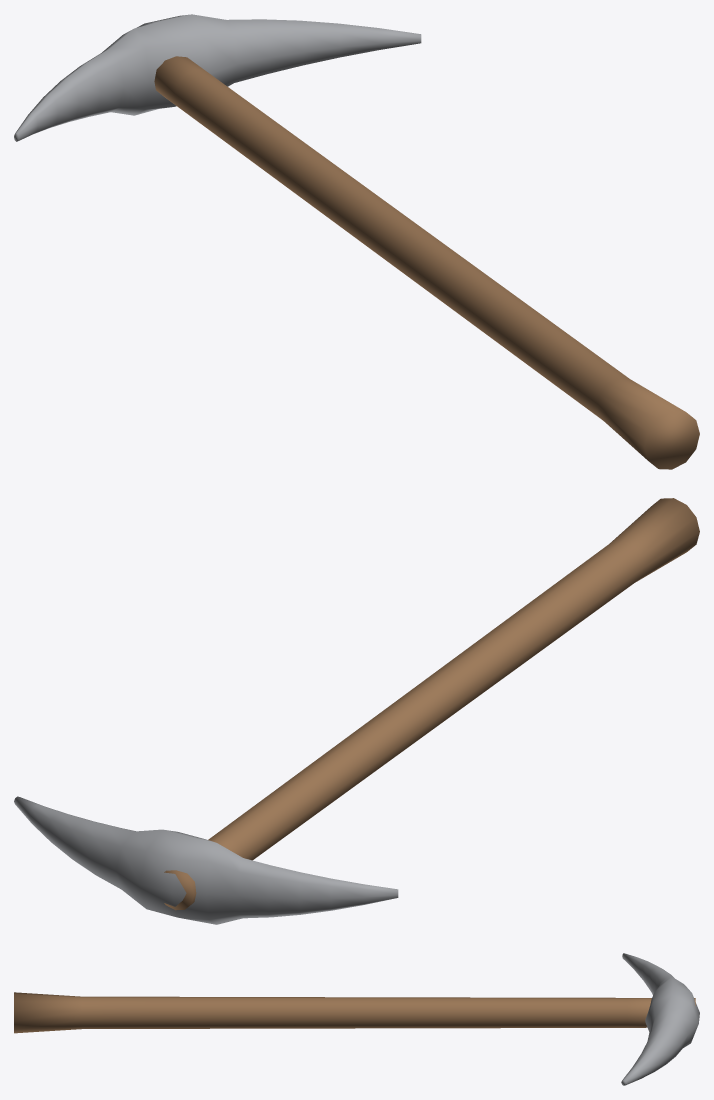
File: Tool_Pickaxe.fbx
The picture shows the model from 3 angles, top to bottom: view 1: azimuth 30°, elevation 25°; view 2: azimuth 150°, elevation 25°; view 3: azimuth 270°, elevation 25°; orthographic projection. The views are drawn at different scales.
Visible parts, largest first — view 1: Tool_Pickaxe; view 2: Tool_Pickaxe; view 3: Tool_Pickaxe.
Boxes of the visible parts, left/top/right/bottom form: Tool_Pickaxe: left=14, top=14, right=699, bottom=469; Tool_Pickaxe: left=14, top=498, right=699, bottom=924; Tool_Pickaxe: left=14, top=953, right=699, bottom=1085.
Bounding box in the file's own units: 0.3376 × 0.069 × 0.765.
